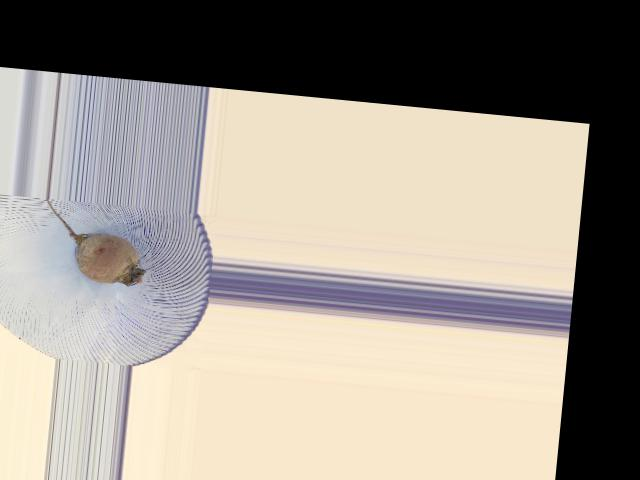beet: (39, 197, 152, 286)
